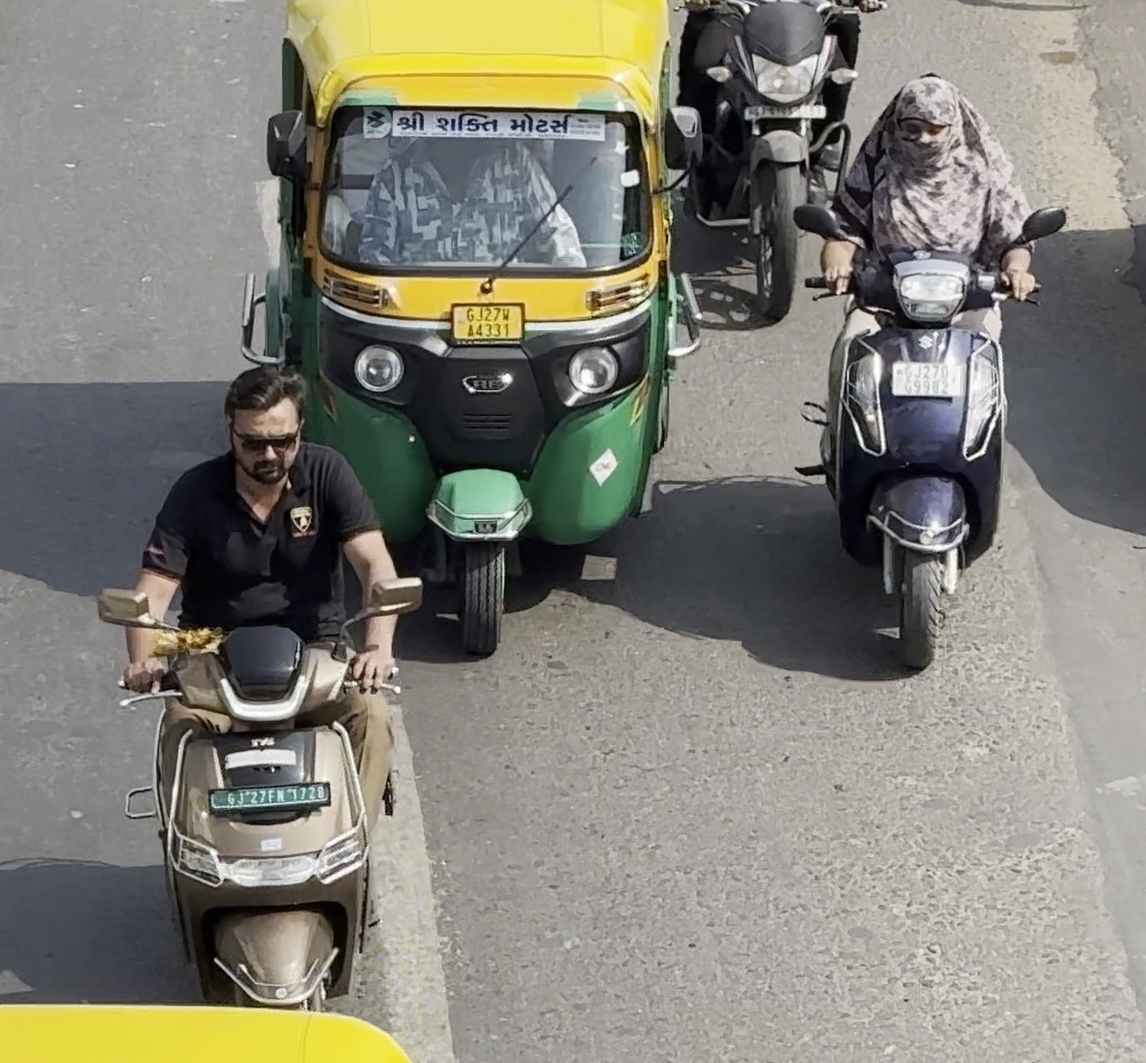BikeWithRider: (83, 353, 470, 1016), (770, 48, 1089, 678)
NoHelmet: (219, 365, 321, 494), (870, 65, 977, 179)
